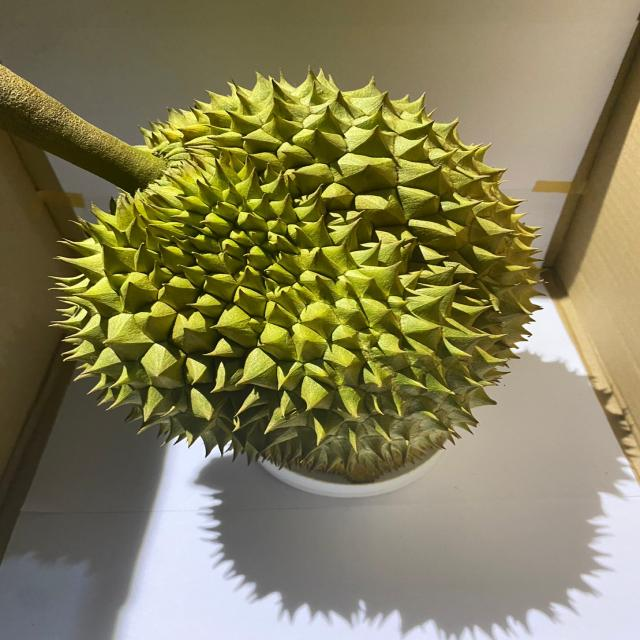immature: (54, 65, 552, 476)
